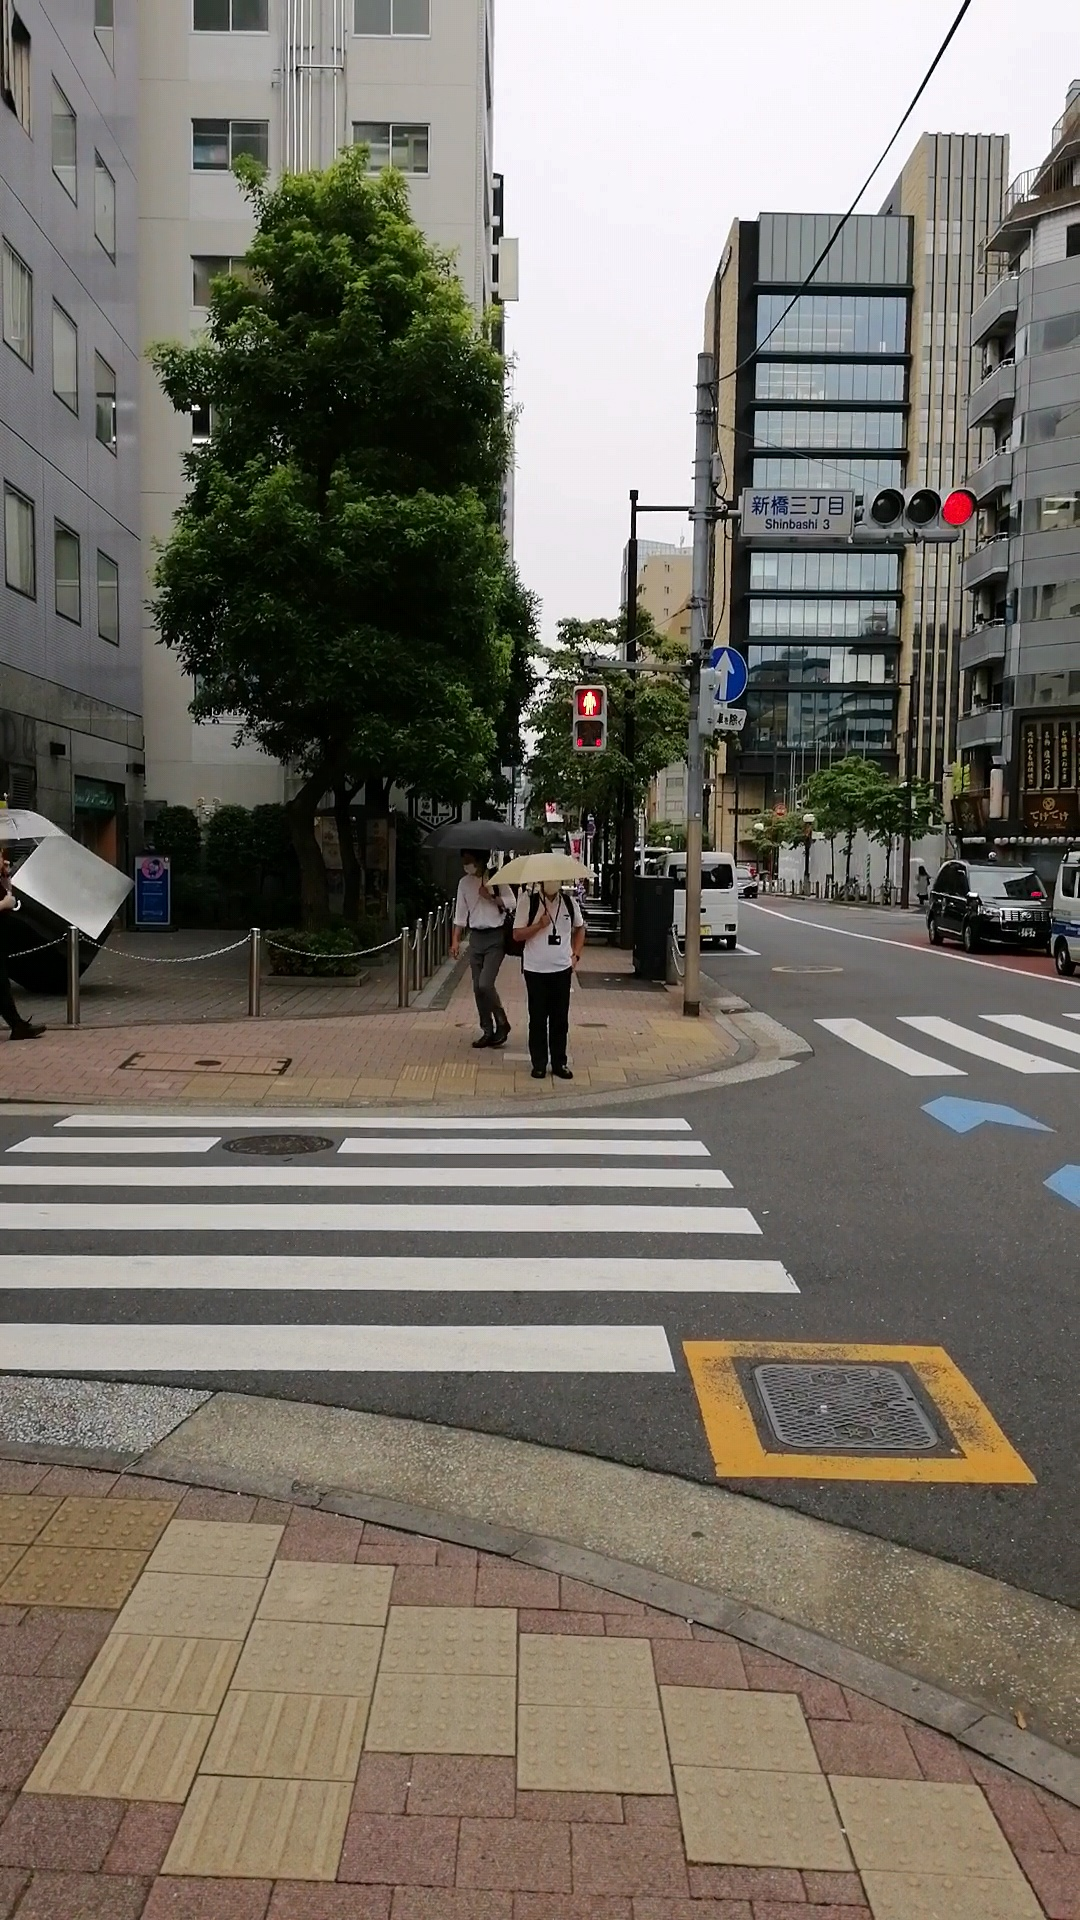red: (570, 684, 607, 756)
